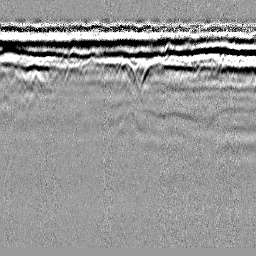cavity: (119, 56, 139, 88)
